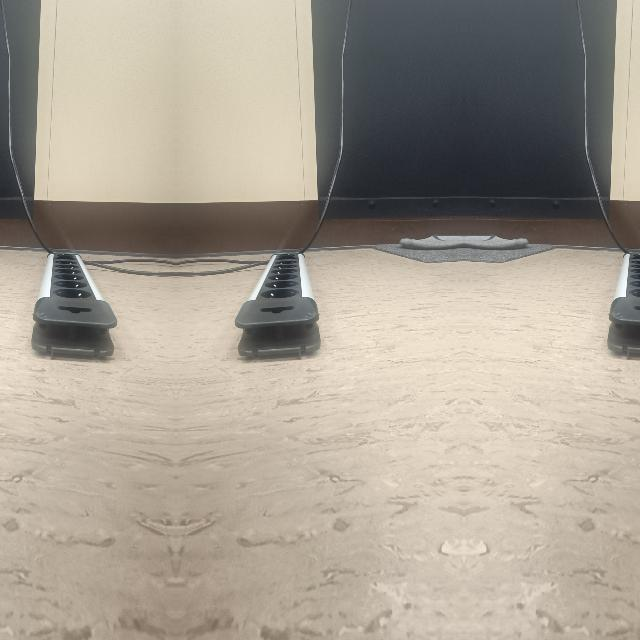obstacle: (234, 254, 330, 358), (20, 254, 116, 358), (596, 253, 640, 358)
